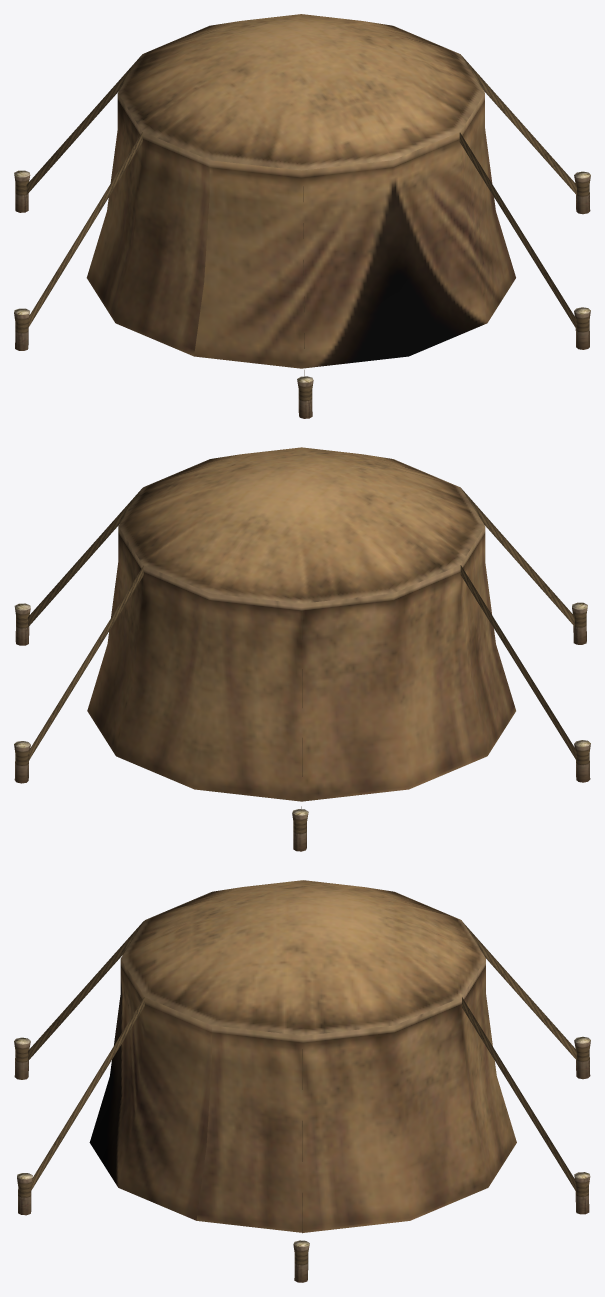
The model's file is tent_02.fbx.
The picture shows the model from 3 angles, top to bottom: view 1: azimuth 30°, elevation 25°; view 2: azimuth 150°, elevation 25°; view 3: azimuth 270°, elevation 25°; orthographic projection.
Parts seen in each view (by area): view 1: tent_02; view 2: tent_02; view 3: tent_02.
Part boxes in pixels (bbox=[...]): tent_02: bbox=[14, 14, 590, 418]; tent_02: bbox=[14, 447, 590, 851]; tent_02: bbox=[14, 880, 590, 1282].
Size of the model in its own units: 2743 by 1087 by 2397.
